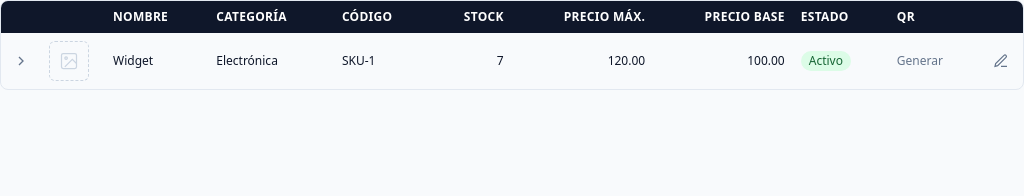
Test case: ProductsCatalogTable › keeps the detail panel collapsed until the expand icon is pressed
Expected: the text "Ver producto completo →" is not shown
Click the button named "Expandir Widget".
click(21, 61)  # box [9, 49, 33, 73]
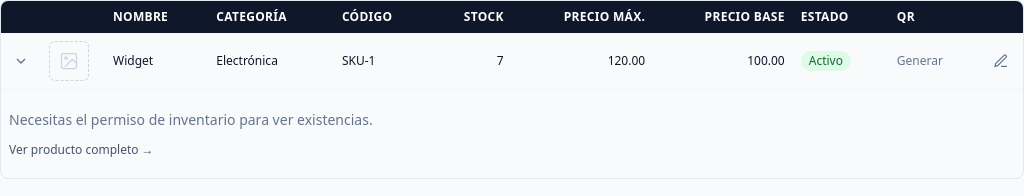
Expected: the link "Ver producto completo →" is shown, [9, 142, 154, 158]
Click the button named "Contraer Widget".
click(21, 61)  # box [9, 49, 33, 73]
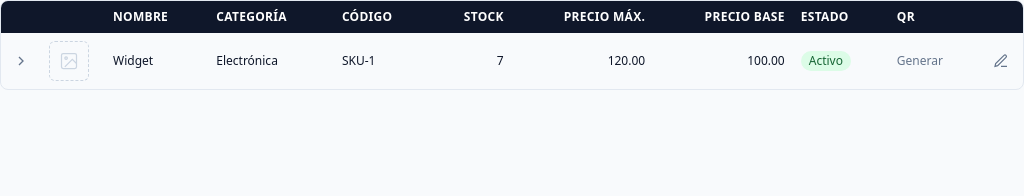
Expected: the link "Ver producto completo →" is gone
